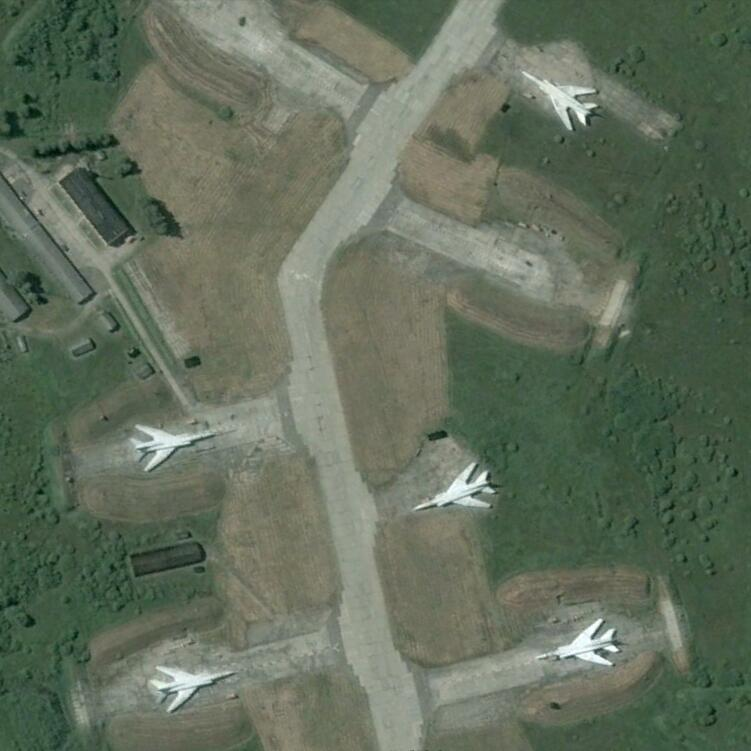A12: (518, 67, 601, 133), (407, 461, 500, 516), (147, 660, 233, 716), (535, 615, 619, 672), (131, 420, 215, 473)
